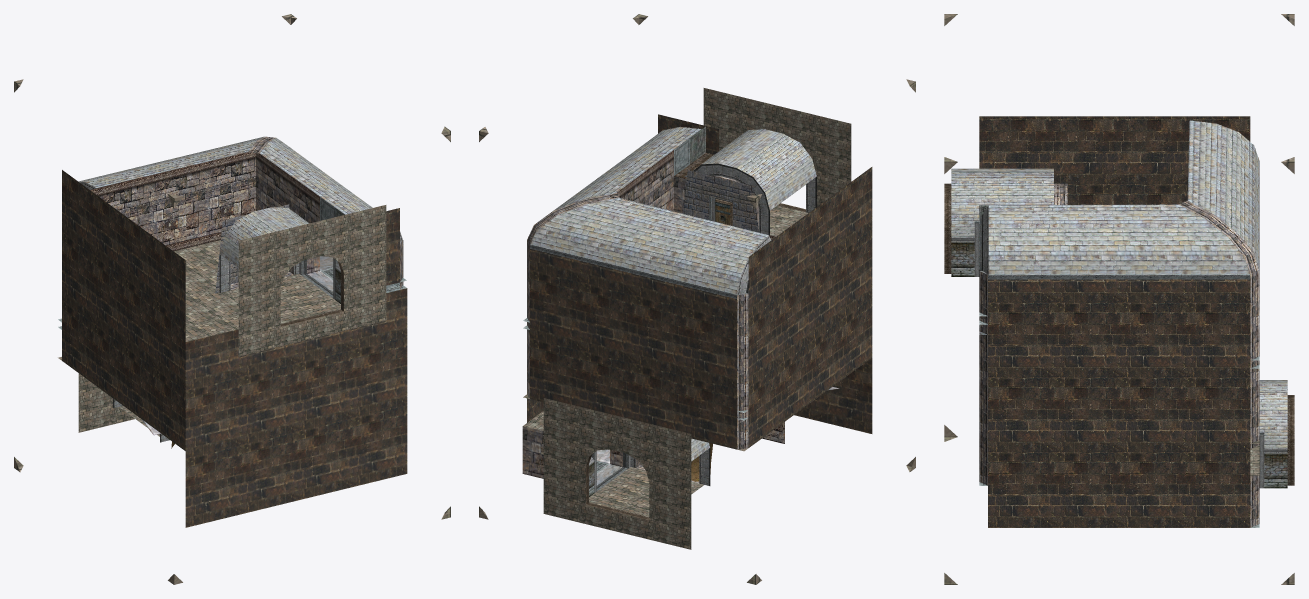
Rendered from Lbg_2l2l.glb.
3 views of the same model, side by side, from view 1: azimuth 30°, elevation 25°; view 2: azimuth 150°, elevation 25°; view 3: azimuth 270°, elevation 25° (orthographic). The views are drawn at different scales.
Visible parts, largest first — view 1: Lbg_2l2l-col; view 2: Lbg_2l2l-col; view 3: Lbg_2l2l-col.
Boxes of the visible parts, bbox=[...] form: Lbg_2l2l-col: bbox=[14, 14, 450, 584]; Lbg_2l2l-col: bbox=[479, 14, 915, 584]; Lbg_2l2l-col: bbox=[944, 14, 1294, 584].
Bounding box in the file's own units: 15 × 20 × 15.
Materials: 12 (12 with a texture image).
